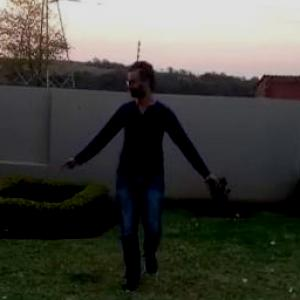land: (58, 57, 231, 298)
